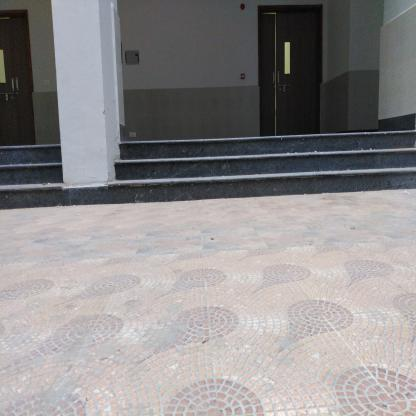stairs: (123, 129, 406, 196)
